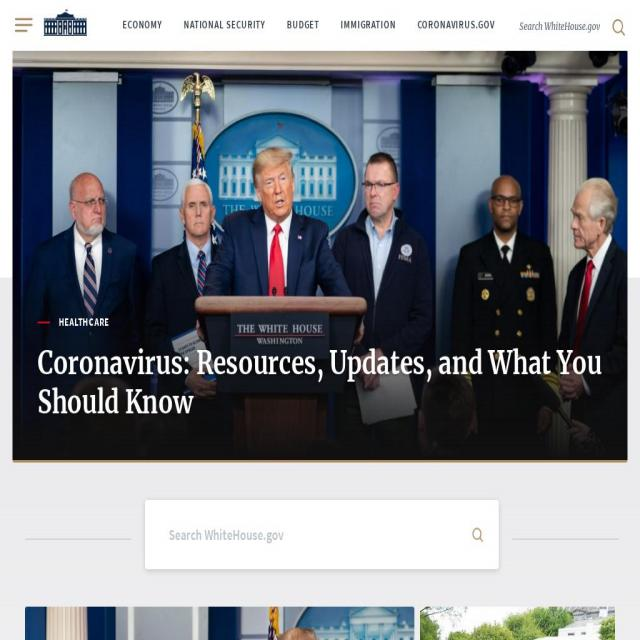navigation-links: (115, 12, 499, 42)
options: (7, 10, 35, 40)
search: (143, 490, 502, 575), (520, 17, 630, 43)
